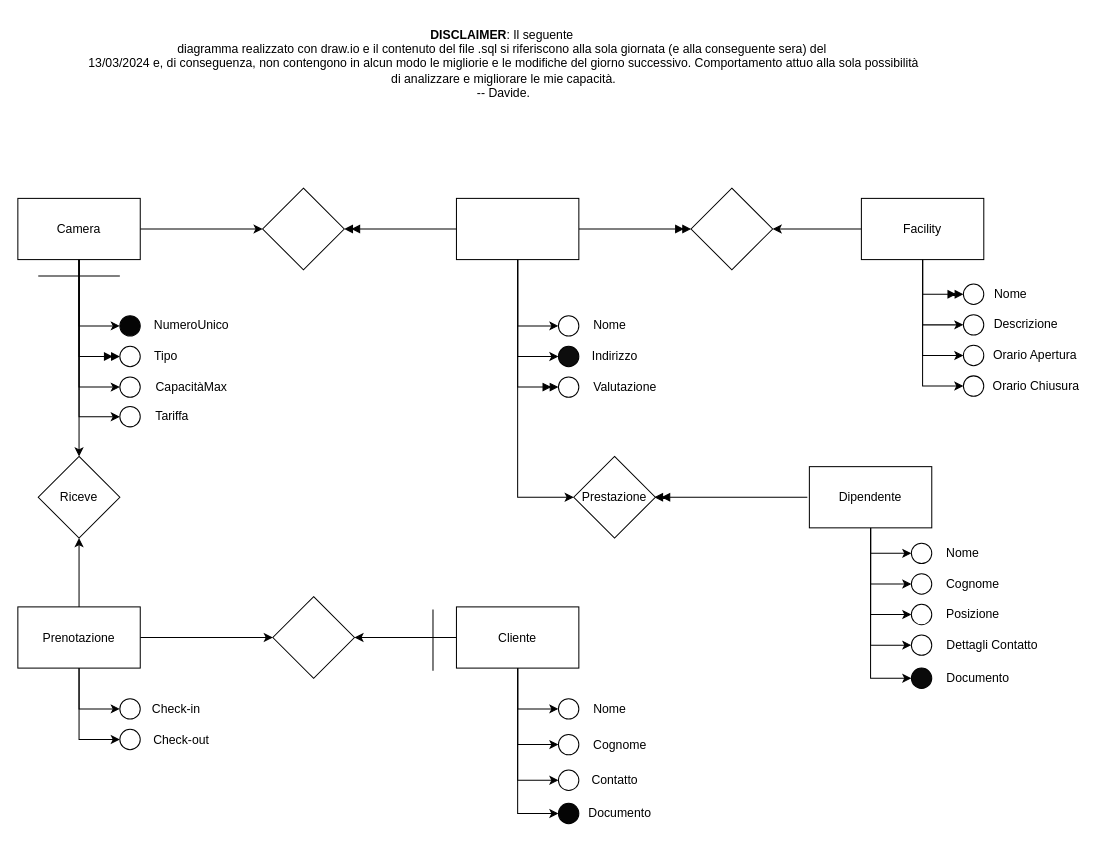
This 1110x846 diagram has some shape labels left out. Here are the shapes that lost their labels. From the top down, the centre of each, then its label:
At point 303,228: "Caratterizza".
At point 517,228: "Abergo".
At point 731,228: "Gestisce".
At point 313,637: "Effettuare".
